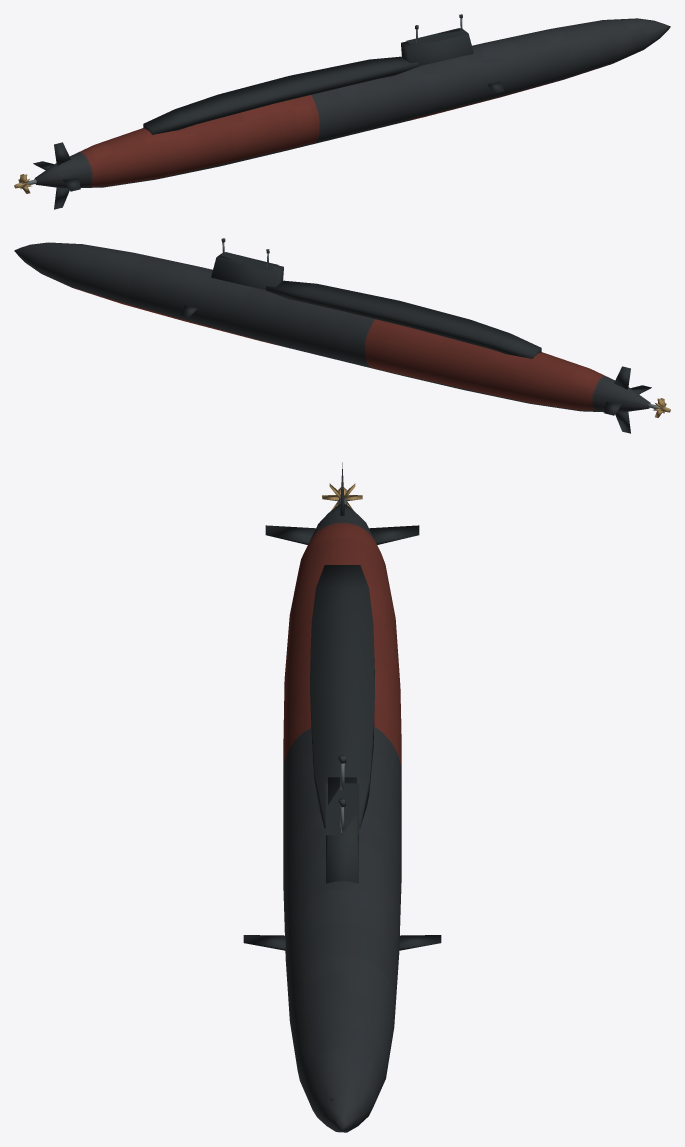
Rendered from RU_SSBN_Hotel_LOD3.fbx.
The picture shows the model from 3 angles, top to bottom: view 1: azimuth 30°, elevation 25°; view 2: azimuth 150°, elevation 25°; view 3: azimuth 270°, elevation 25°; orthographic projection. The views are drawn at different scales.
Visible parts, largest first — view 1: RU_SSBN_Hotel_LOD3; view 2: RU_SSBN_Hotel_LOD3; view 3: RU_SSBN_Hotel_LOD3.
Boxes of the visible parts, box(x1,y1,x2,y2) form: RU_SSBN_Hotel_LOD3: box(14, 14, 670, 209); RU_SSBN_Hotel_LOD3: box(14, 238, 670, 433); RU_SSBN_Hotel_LOD3: box(243, 462, 441, 1132).
Size of the model in its own units: 118 by 15.39 by 16.36.
6 materials, 1 textured.
